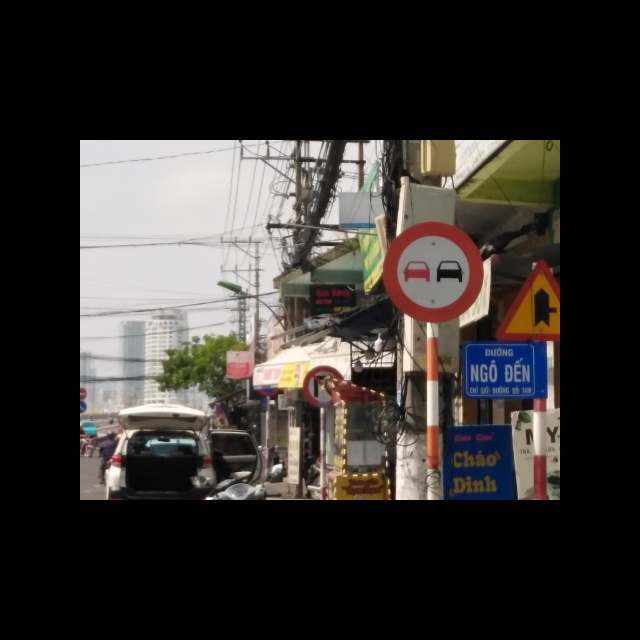Cấm vượt: (381, 219, 484, 323)
Giao nhau với đường không ưu tiên: (495, 257, 561, 342)
